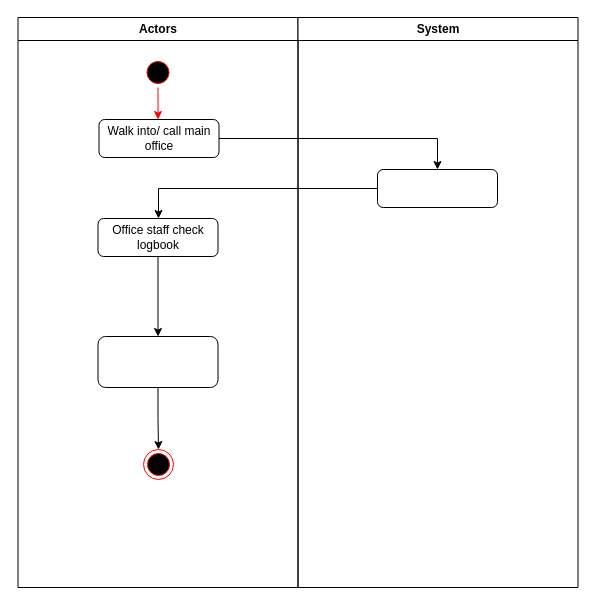
The diagram is 595 pixels wide and 605 high, and some of its shapes have lost their labels. Each missing label, with the centre of its shape:
Logbook shows required jobs: point 437,188
office staff inform maintenance workers of jobs: point 157,362
